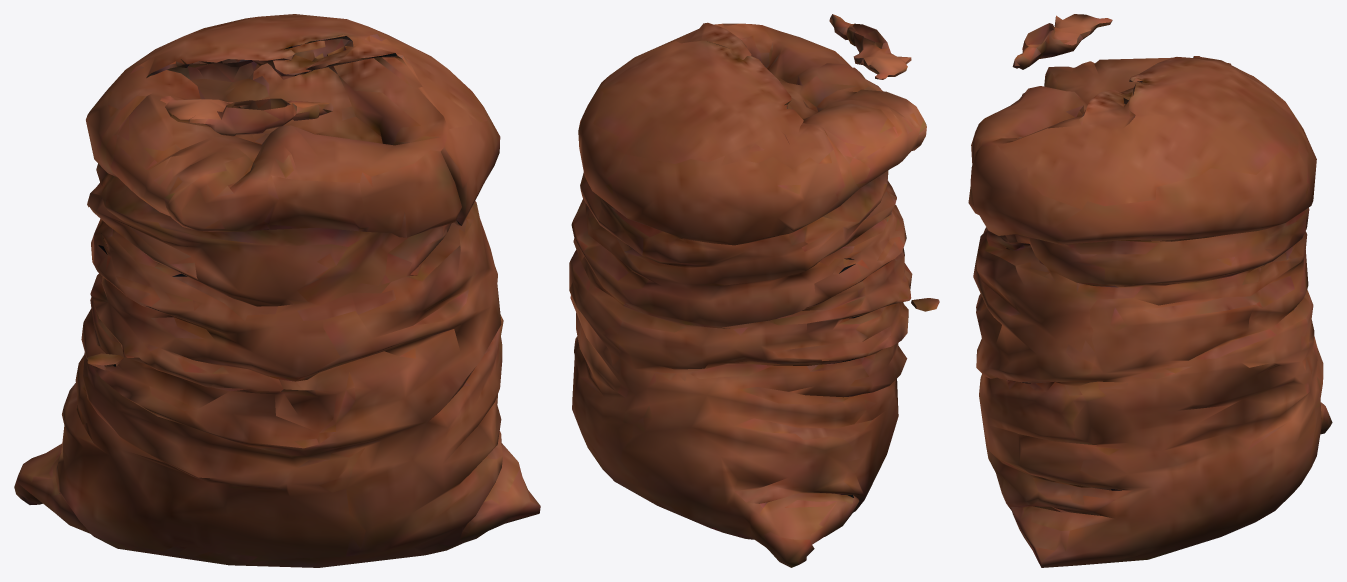
The model's file is weathered-terracotta-sandbag-stack-v001.glb.
The picture shows the model from 3 angles, left to right: view 1: azimuth 30°, elevation 25°; view 2: azimuth 150°, elevation 25°; view 3: azimuth 270°, elevation 25°; orthographic projection. The views are drawn at different scales.
Parts seen in each view (by area): view 1: weathered-terracotta-sandbag-stack; view 2: weathered-terracotta-sandbag-stack; view 3: weathered-terracotta-sandbag-stack.
Boxes of the visible parts, <box> form: weathered-terracotta-sandbag-stack: <box>14,14,540,567</box>; weathered-terracotta-sandbag-stack: <box>569,14,939,567</box>; weathered-terracotta-sandbag-stack: <box>968,14,1332,567</box>.
Size of the model in its own units: 0.6872 by 0.7997 by 0.6121.
1 material, 1 textured.
